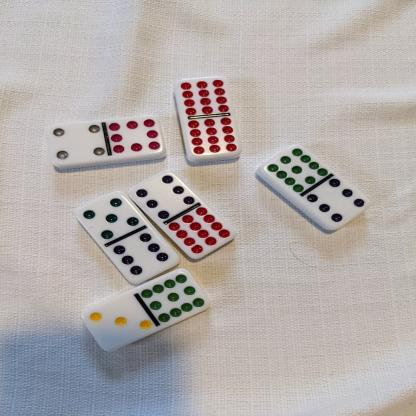pip-11: (140, 271, 209, 322), (263, 144, 328, 192)
pip-12: (167, 206, 231, 259), (173, 77, 231, 115), (186, 116, 239, 157)
pip-3: (81, 295, 150, 351)
pip-4: (49, 122, 105, 164)
pip-5: (75, 192, 138, 240)
pip-6: (128, 169, 194, 218), (307, 179, 372, 228), (113, 232, 178, 279)
pip-8: (107, 114, 162, 158)
